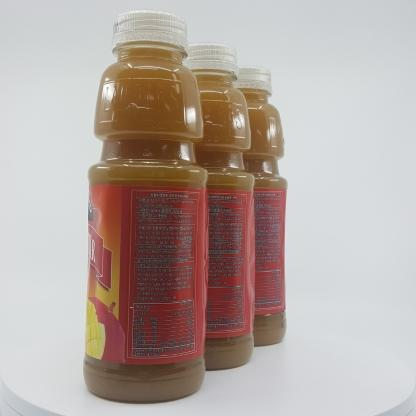-----449ML: (84, 9, 209, 402)
